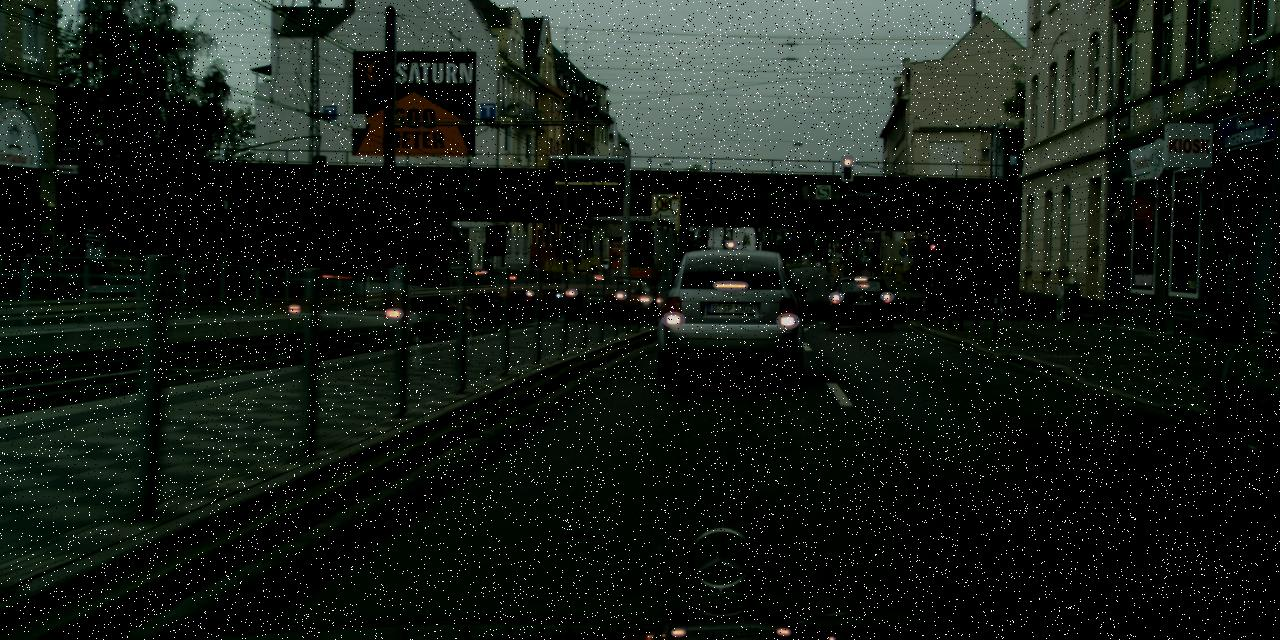ped: (276, 258, 293, 300), (995, 278, 1012, 320), (572, 251, 580, 274)
